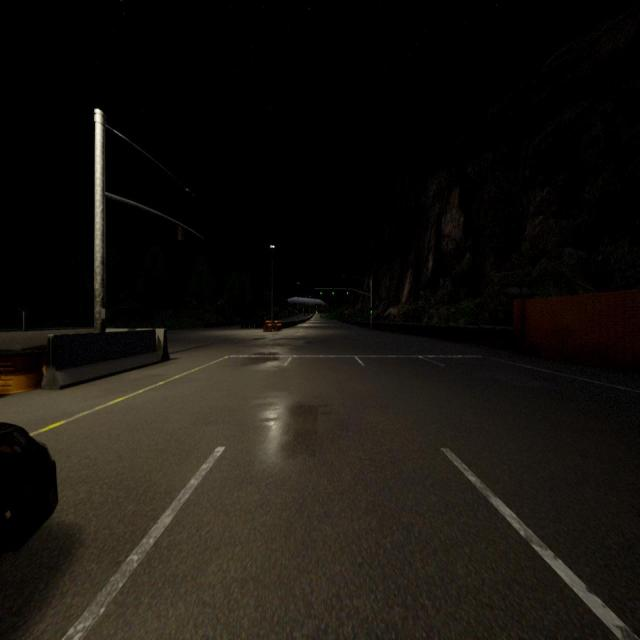Vehicle: (0, 420, 60, 560)
traffic_light: (178, 224, 181, 240), (320, 288, 322, 296), (346, 288, 348, 295), (332, 288, 334, 295), (370, 308, 372, 314)
